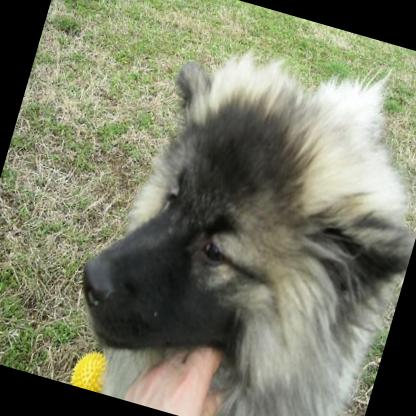keeshond: (50, 0, 416, 416)
